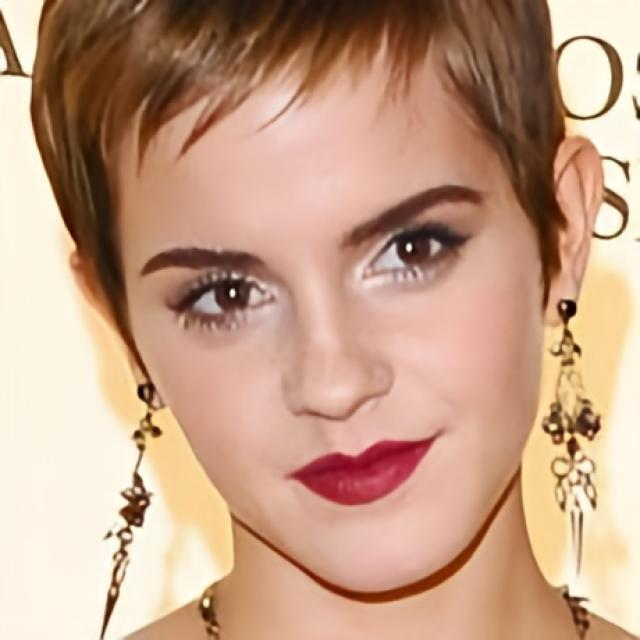content: (119, 25, 546, 595)
